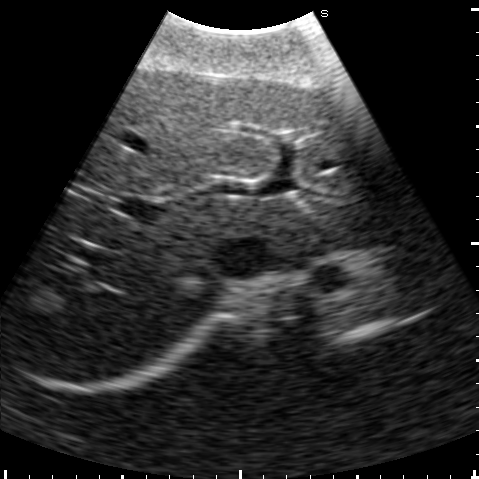IVC: (215, 238, 268, 276)
S1: (249, 200, 326, 262)
S2: (302, 180, 415, 234)
S3: (287, 84, 384, 195)
S4: (87, 73, 307, 196)
